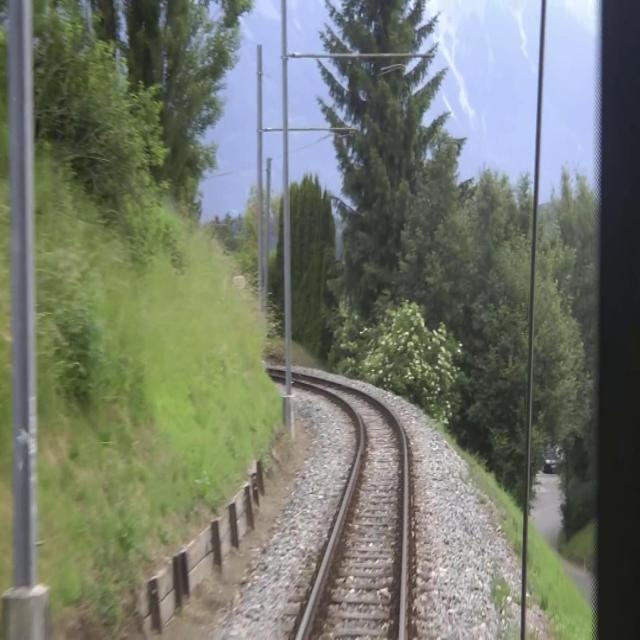rail-track: (302, 382, 403, 639)
